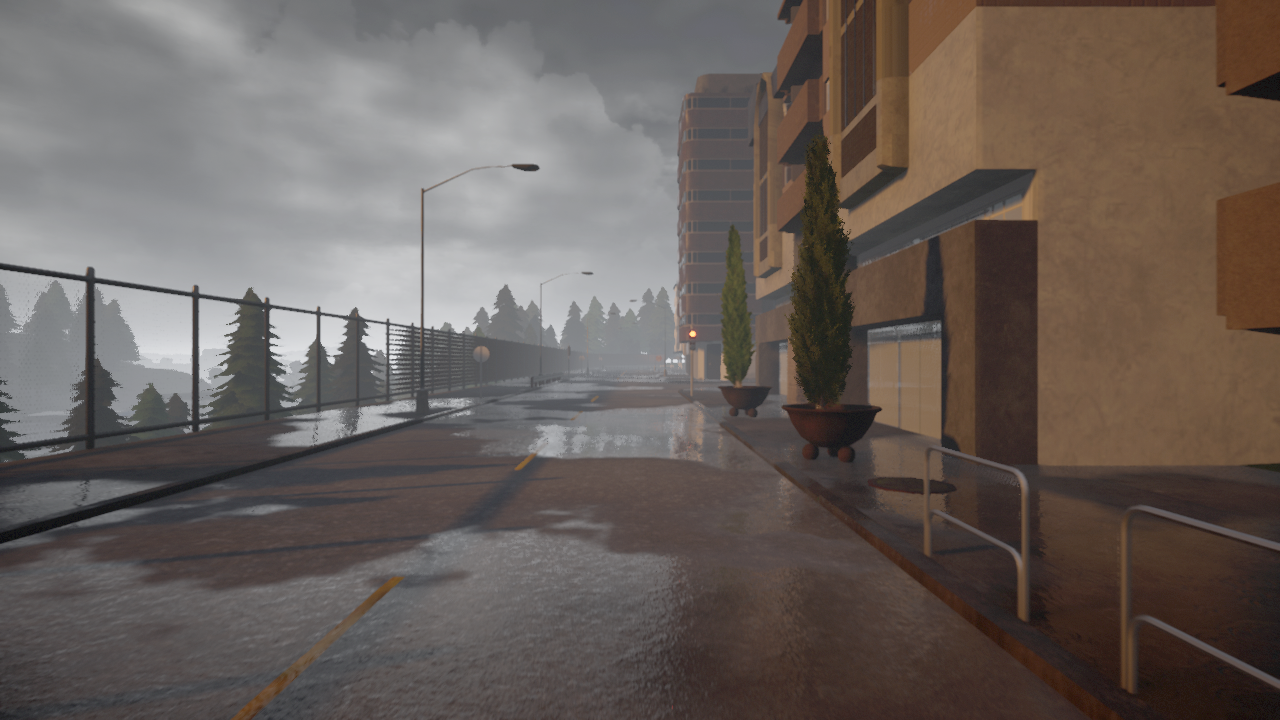red: (689, 329, 697, 351)
